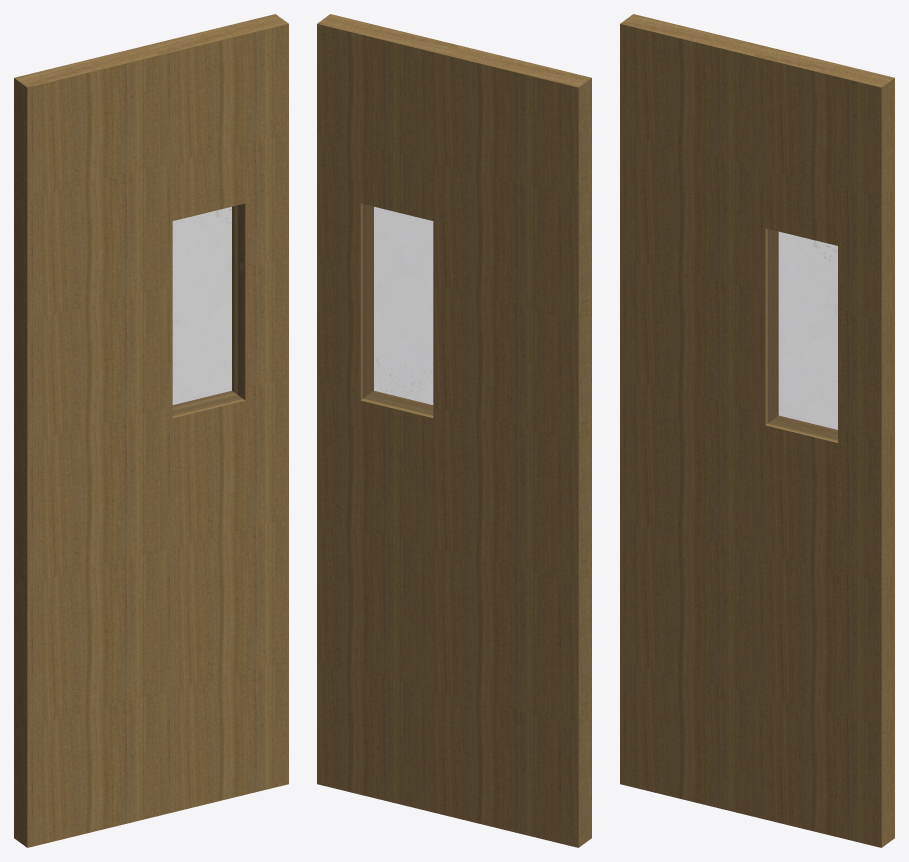
Rendered from Door-transformed.glb.
3 renders of one model, left to right at view 1: azimuth 30°, elevation 25°; view 2: azimuth 150°, elevation 25°; view 3: azimuth 330°, elevation 25°, orthographic.
Parts seen in each view (by area): view 1: Door; view 2: Door; view 3: Door.
Part boxes in pixels (x1=…): Door: x1=14, y1=14, x2=288, y2=847; Door: x1=317, y1=14, x2=591, y2=847; Door: x1=620, y1=14, x2=894, y2=847.
Bounding box in the file's own units: 0.9 × 2.5 × 0.08.
Materials: 2 (2 with a texture image).
